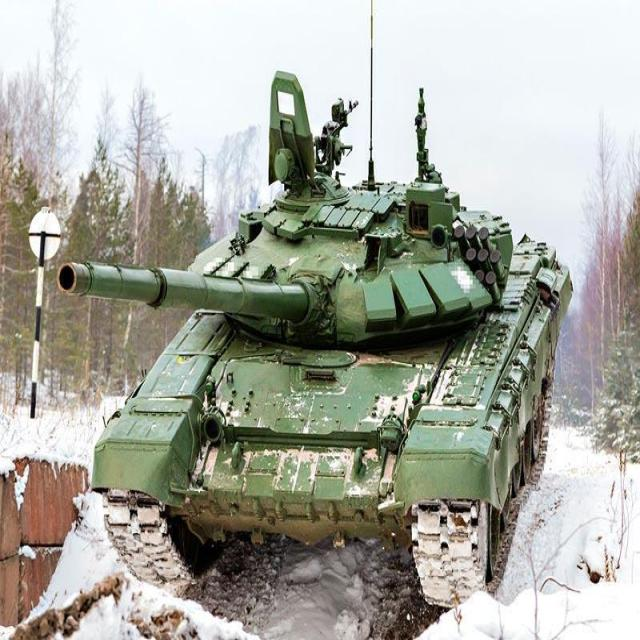Tanks: (47, 81, 596, 597)
